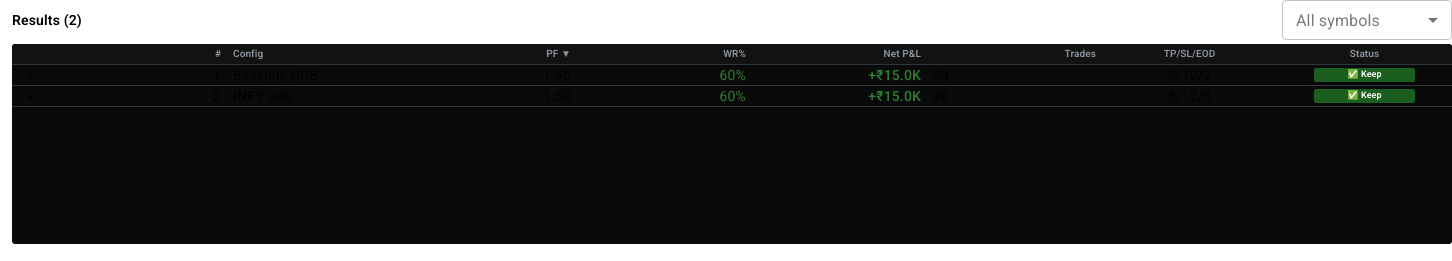
Test case: ExperimentsResultsTable › filters runs by symbol via the symbol filter
The image size is (1452, 261).
expect the row with test id "experiments-run-row-1" is shown: met, box [12,64,1451,85]
expect the row with test id "experiments-run-row-2" is shown: met, box [12,85,1451,106]
Click the dropdown.
click(1338, 20)  # box [1296,10,1380,30]
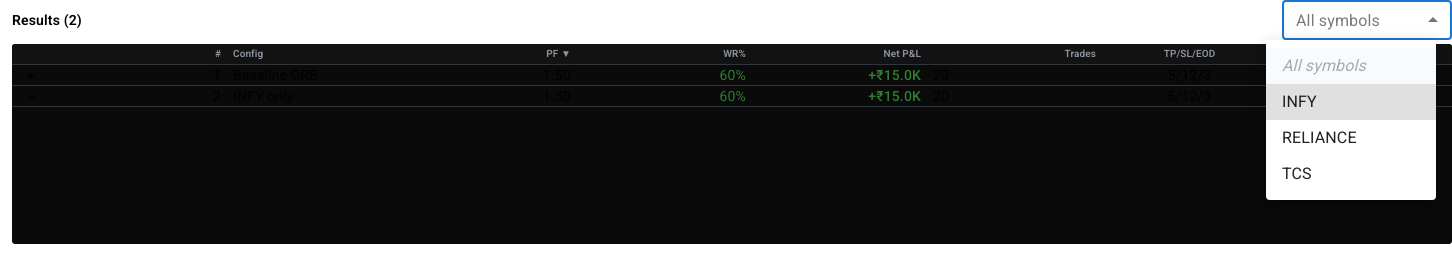
Click the option "TCS".
click(1297, 174)  # box [1282,164,1312,183]
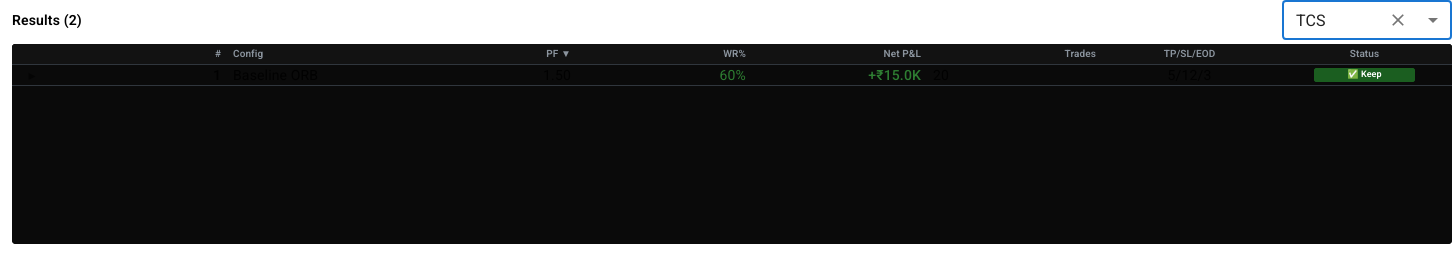
expect the row with test id "experiments-run-row-1" is shown: met, box [12,64,1451,85]
expect the row with test id "experiments-run-row-2" is gone: met
